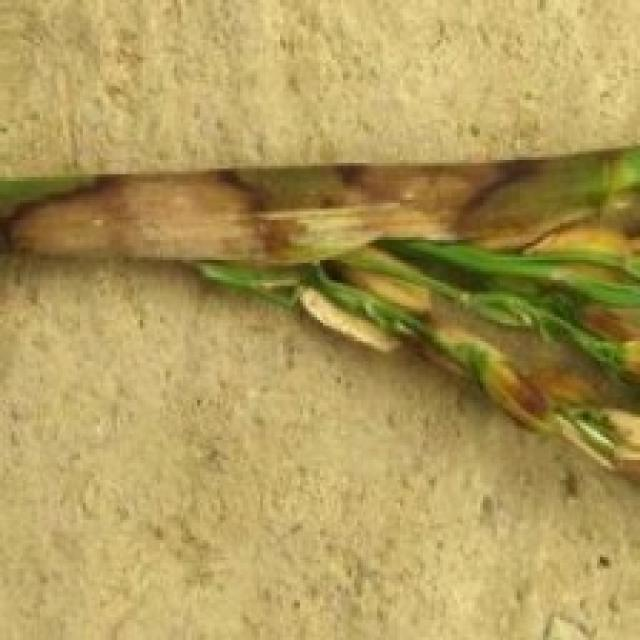Bacterial_Blight: (3, 151, 286, 274), (308, 153, 539, 215)
